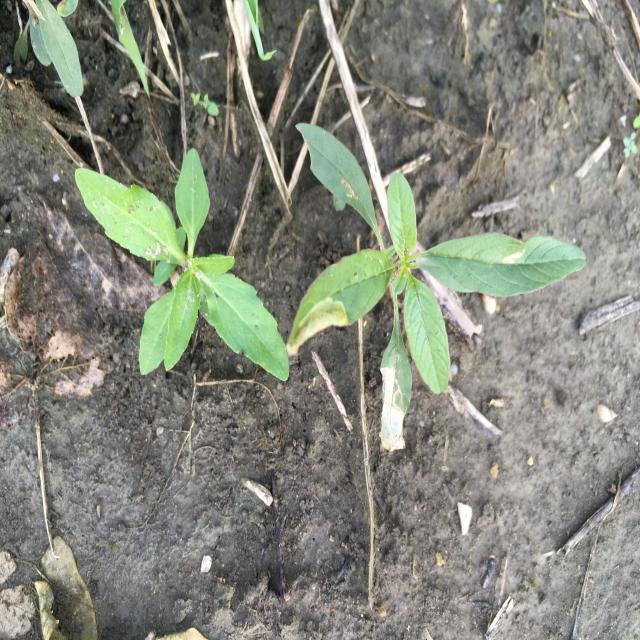Eclipta: (73, 147, 291, 383)
Waterhemp: (285, 122, 586, 452)
